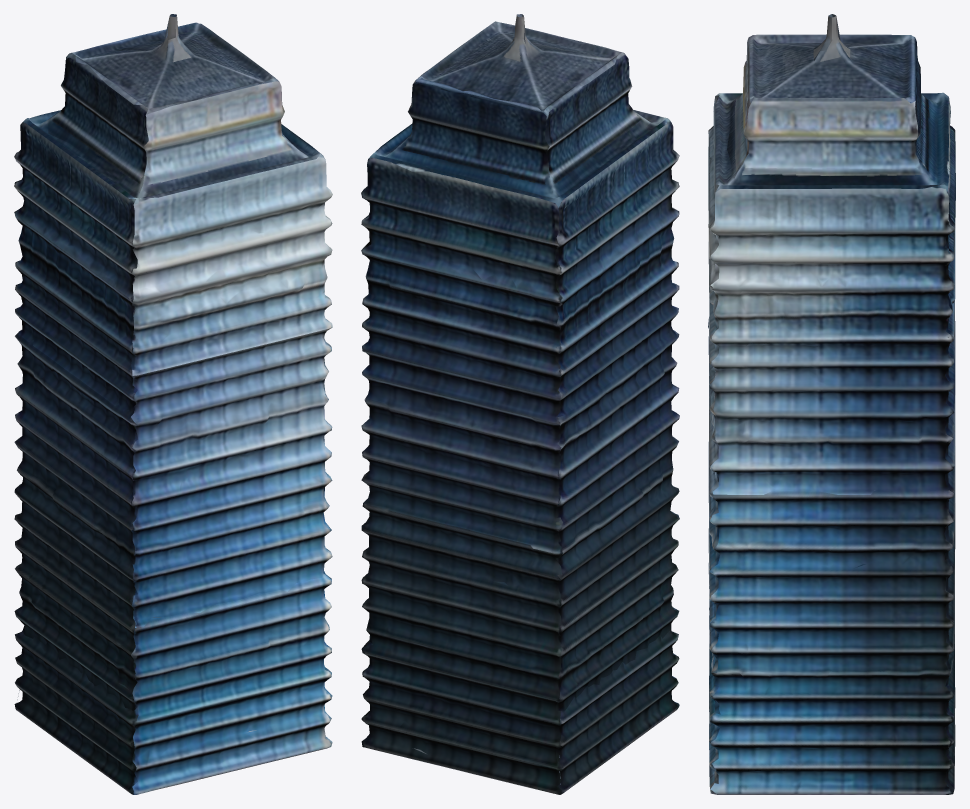
3 renders of one model, left to right at view 1: azimuth 30°, elevation 25°; view 2: azimuth 150°, elevation 25°; view 3: azimuth 270°, elevation 25°, orthographic. The views are drawn at different scales.
Parts seen in each view (by area): view 1: tmpzutra_aa.ply; view 2: tmpzutra_aa.ply; view 3: tmpzutra_aa.ply.
Boxes of the visible parts, box(x1,y1,x2,y2) form: tmpzutra_aa.ply: box(14, 14, 332, 794); tmpzutra_aa.ply: box(361, 14, 679, 794); tmpzutra_aa.ply: box(708, 14, 955, 794).
Bounding box in the file's own units: 0.5019 × 1.69 × 0.519.
1 material, 1 textured.
